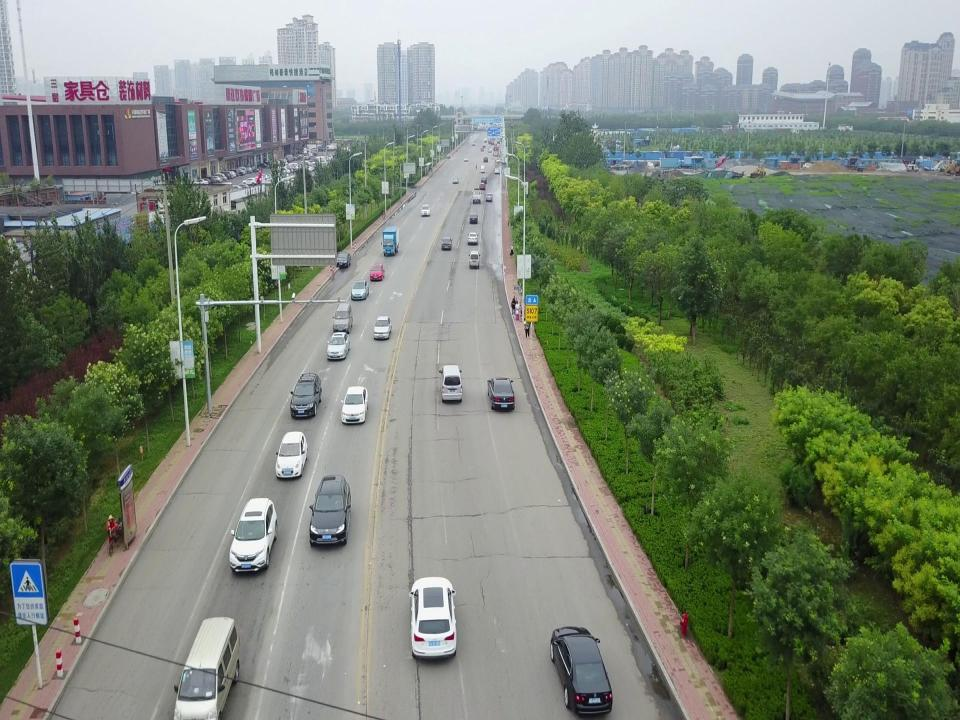bus: (492, 145, 498, 157)
car: (550, 626, 612, 714), (409, 578, 457, 658), (229, 498, 277, 573), (309, 474, 351, 548), (289, 371, 322, 419), (276, 432, 308, 480), (340, 385, 368, 427), (486, 376, 514, 413), (328, 333, 350, 361), (373, 316, 391, 340), (351, 279, 369, 303), (370, 262, 384, 282), (335, 252, 351, 268), (467, 232, 479, 244), (440, 238, 452, 249), (420, 204, 430, 217), (469, 213, 478, 224), (486, 193, 492, 201), (452, 176, 458, 184), (494, 167, 500, 175), (496, 158, 504, 163), (483, 156, 488, 162), (480, 146, 484, 153), (463, 157, 468, 162), (488, 149, 492, 153), (471, 142, 475, 146)
truck: (381, 225, 398, 256), (472, 188, 481, 203)
van: (173, 618, 237, 720), (438, 364, 464, 404), (332, 303, 353, 331), (467, 251, 481, 269), (480, 165, 485, 173)
